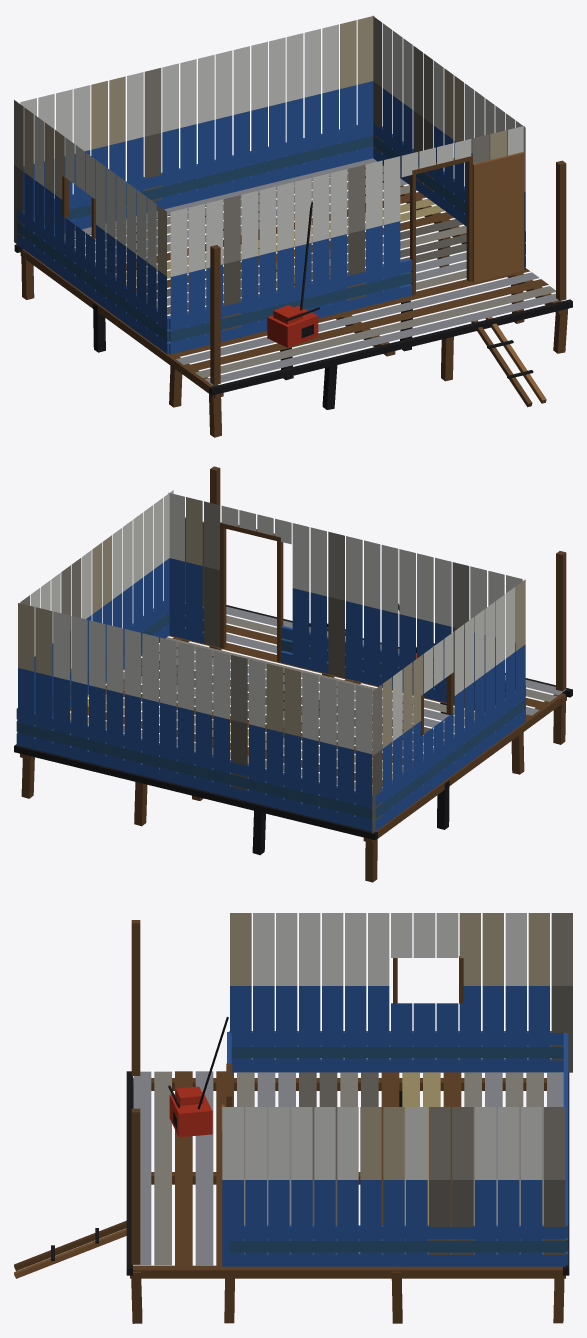
File: building_makoko-viewing-room.glb
3 views of the same model, one above another, from view 1: azimuth 30°, elevation 25°; view 2: azimuth 150°, elevation 25°; view 3: azimuth 270°, elevation 25° (orthographic). The views are drawn at different scales.
Parts seen in each view (by area): view 1: body, wall_front_full, wall_back_full, wall_left_full, wall_right_full, wall_back_low, wall_front_low, wall_left_low, wall_right_low; view 2: wall_back_full, wall_front_full, body, wall_left_full, wall_back_low, wall_right_full, wall_left_low, wall_front_low, wall_right_low; view 3: body, wall_right_full, wall_left_full, wall_left_low, wall_right_low, wall_back_low.
Boxes of the visible parts, left/top/right/bottom form: body: left=14, top=158, right=572, bottom=437; wall_front_full: left=170, top=126, right=524, bottom=343; wall_back_full: left=20, top=16, right=374, bottom=225; wall_left_full: left=14, top=100, right=166, bottom=343; wall_right_full: left=372, top=15, right=525, bottom=269; wall_back_low: left=23, top=123, right=373, bottom=233; wall_front_low: left=168, top=155, right=472, bottom=354; wall_left_low: left=17, top=209, right=170, bottom=354; wall_right_low: left=373, top=123, right=525, bottom=266; wall_back_full: left=18, top=603, right=371, bottom=820; wall_front_full: left=168, top=492, right=522, bottom=711; body: left=14, top=466, right=572, bottom=882; wall_left_full: left=372, top=579, right=525, bottom=833; wall_back_low: left=17, top=709, right=372, bottom=831; wall_right_full: left=20, top=490, right=173, bottom=711; wall_left_low: left=375, top=686, right=525, bottom=830; wall_front_low: left=185, top=522, right=505, bottom=699; wall_right_low: left=16, top=600, right=169, bottom=743; body: left=14, top=920, right=569, bottom=1323; wall_right_full: left=222, top=1107, right=565, bottom=1266; wall_left_full: left=230, top=913, right=572, bottom=1072; wall_left_low: left=229, top=1031, right=563, bottom=1072; wall_right_low: left=229, top=1225, right=565, bottom=1266; wall_back_low: left=563, top=1033, right=568, bottom=1265.
Size of the model in its own units: 6.1 by 3.16 by 7.3.
